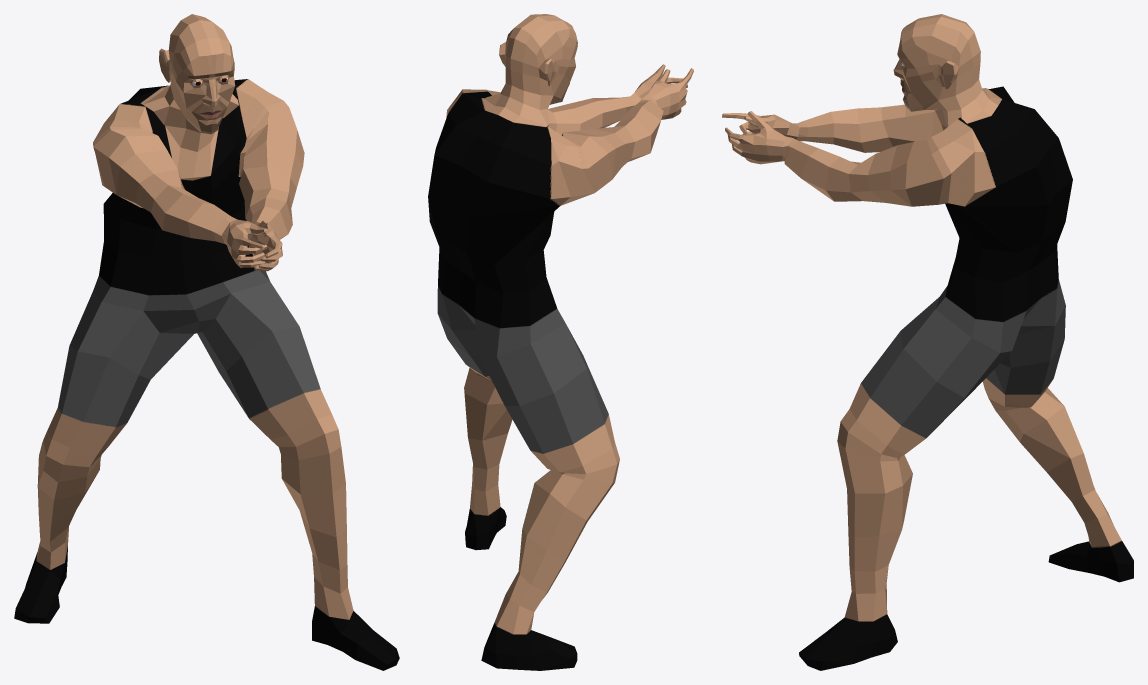
The model's file is PlayerShoot(31).obj.
3 renders of one model, left to right at view 1: azimuth 30°, elevation 25°; view 2: azimuth 150°, elevation 25°; view 3: azimuth 270°, elevation 25°, orthographic. The views are drawn at different scales.
Visible parts, largest first — view 1: Plane002; view 2: Plane002; view 3: Plane002.
Part boxes in pixels (x1,y1,x2,y2): Plane002: (14,14,399,670); Plane002: (428,14,693,670); Plane002: (722,14,1133,670).
Bounding box in the file's own units: 714 × 1665 × 1051.
